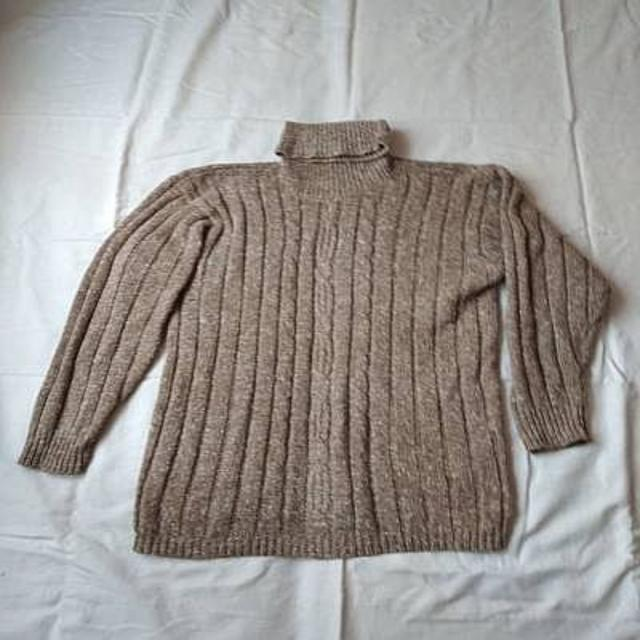SHIRT: (16, 98, 626, 563)
